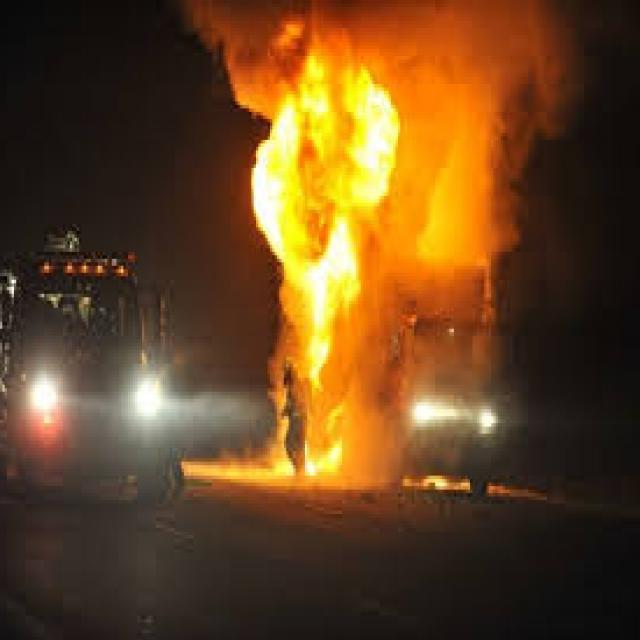Fire: (244, 63, 408, 475)
Smoke: (424, 0, 568, 163)
